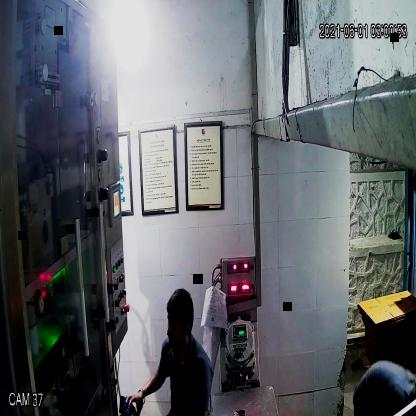no_goggles: (165, 313, 192, 339)
